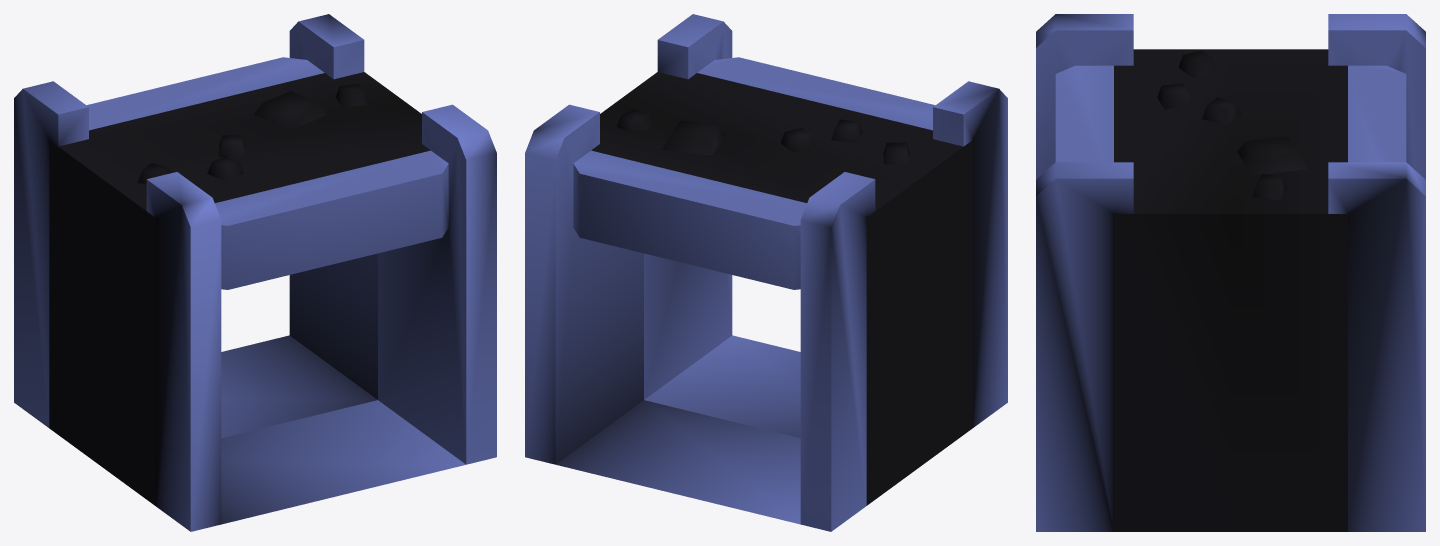
The model's file is wall-opening.obj.
The picture shows the model from 3 angles, left to right: view 1: azimuth 30°, elevation 25°; view 2: azimuth 150°, elevation 25°; view 3: azimuth 270°, elevation 25°; orthographic projection. The views are drawn at different scales.
Parts seen in each view (by area): view 1: wall-opening; view 2: wall-opening; view 3: wall-opening.
Part boxes in pixels (left/top/right/bottom): wall-opening: left=14, top=14, right=496, bottom=531; wall-opening: left=525, top=14, right=1007, bottom=531; wall-opening: left=1036, top=14, right=1425, bottom=531.
Bounding box in the file's own units: 1 × 1 × 1.
